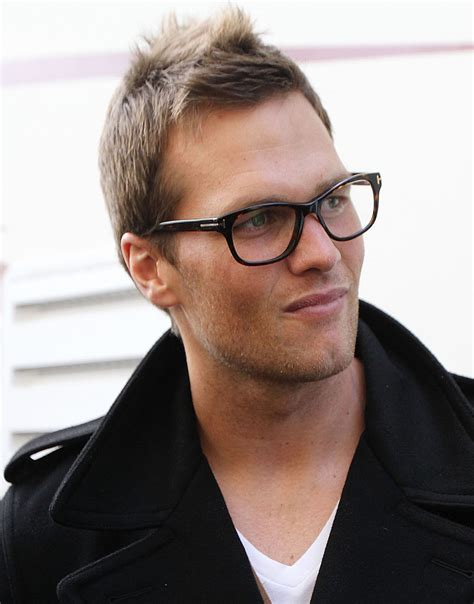sem_capacete: (83, 15, 393, 407)
